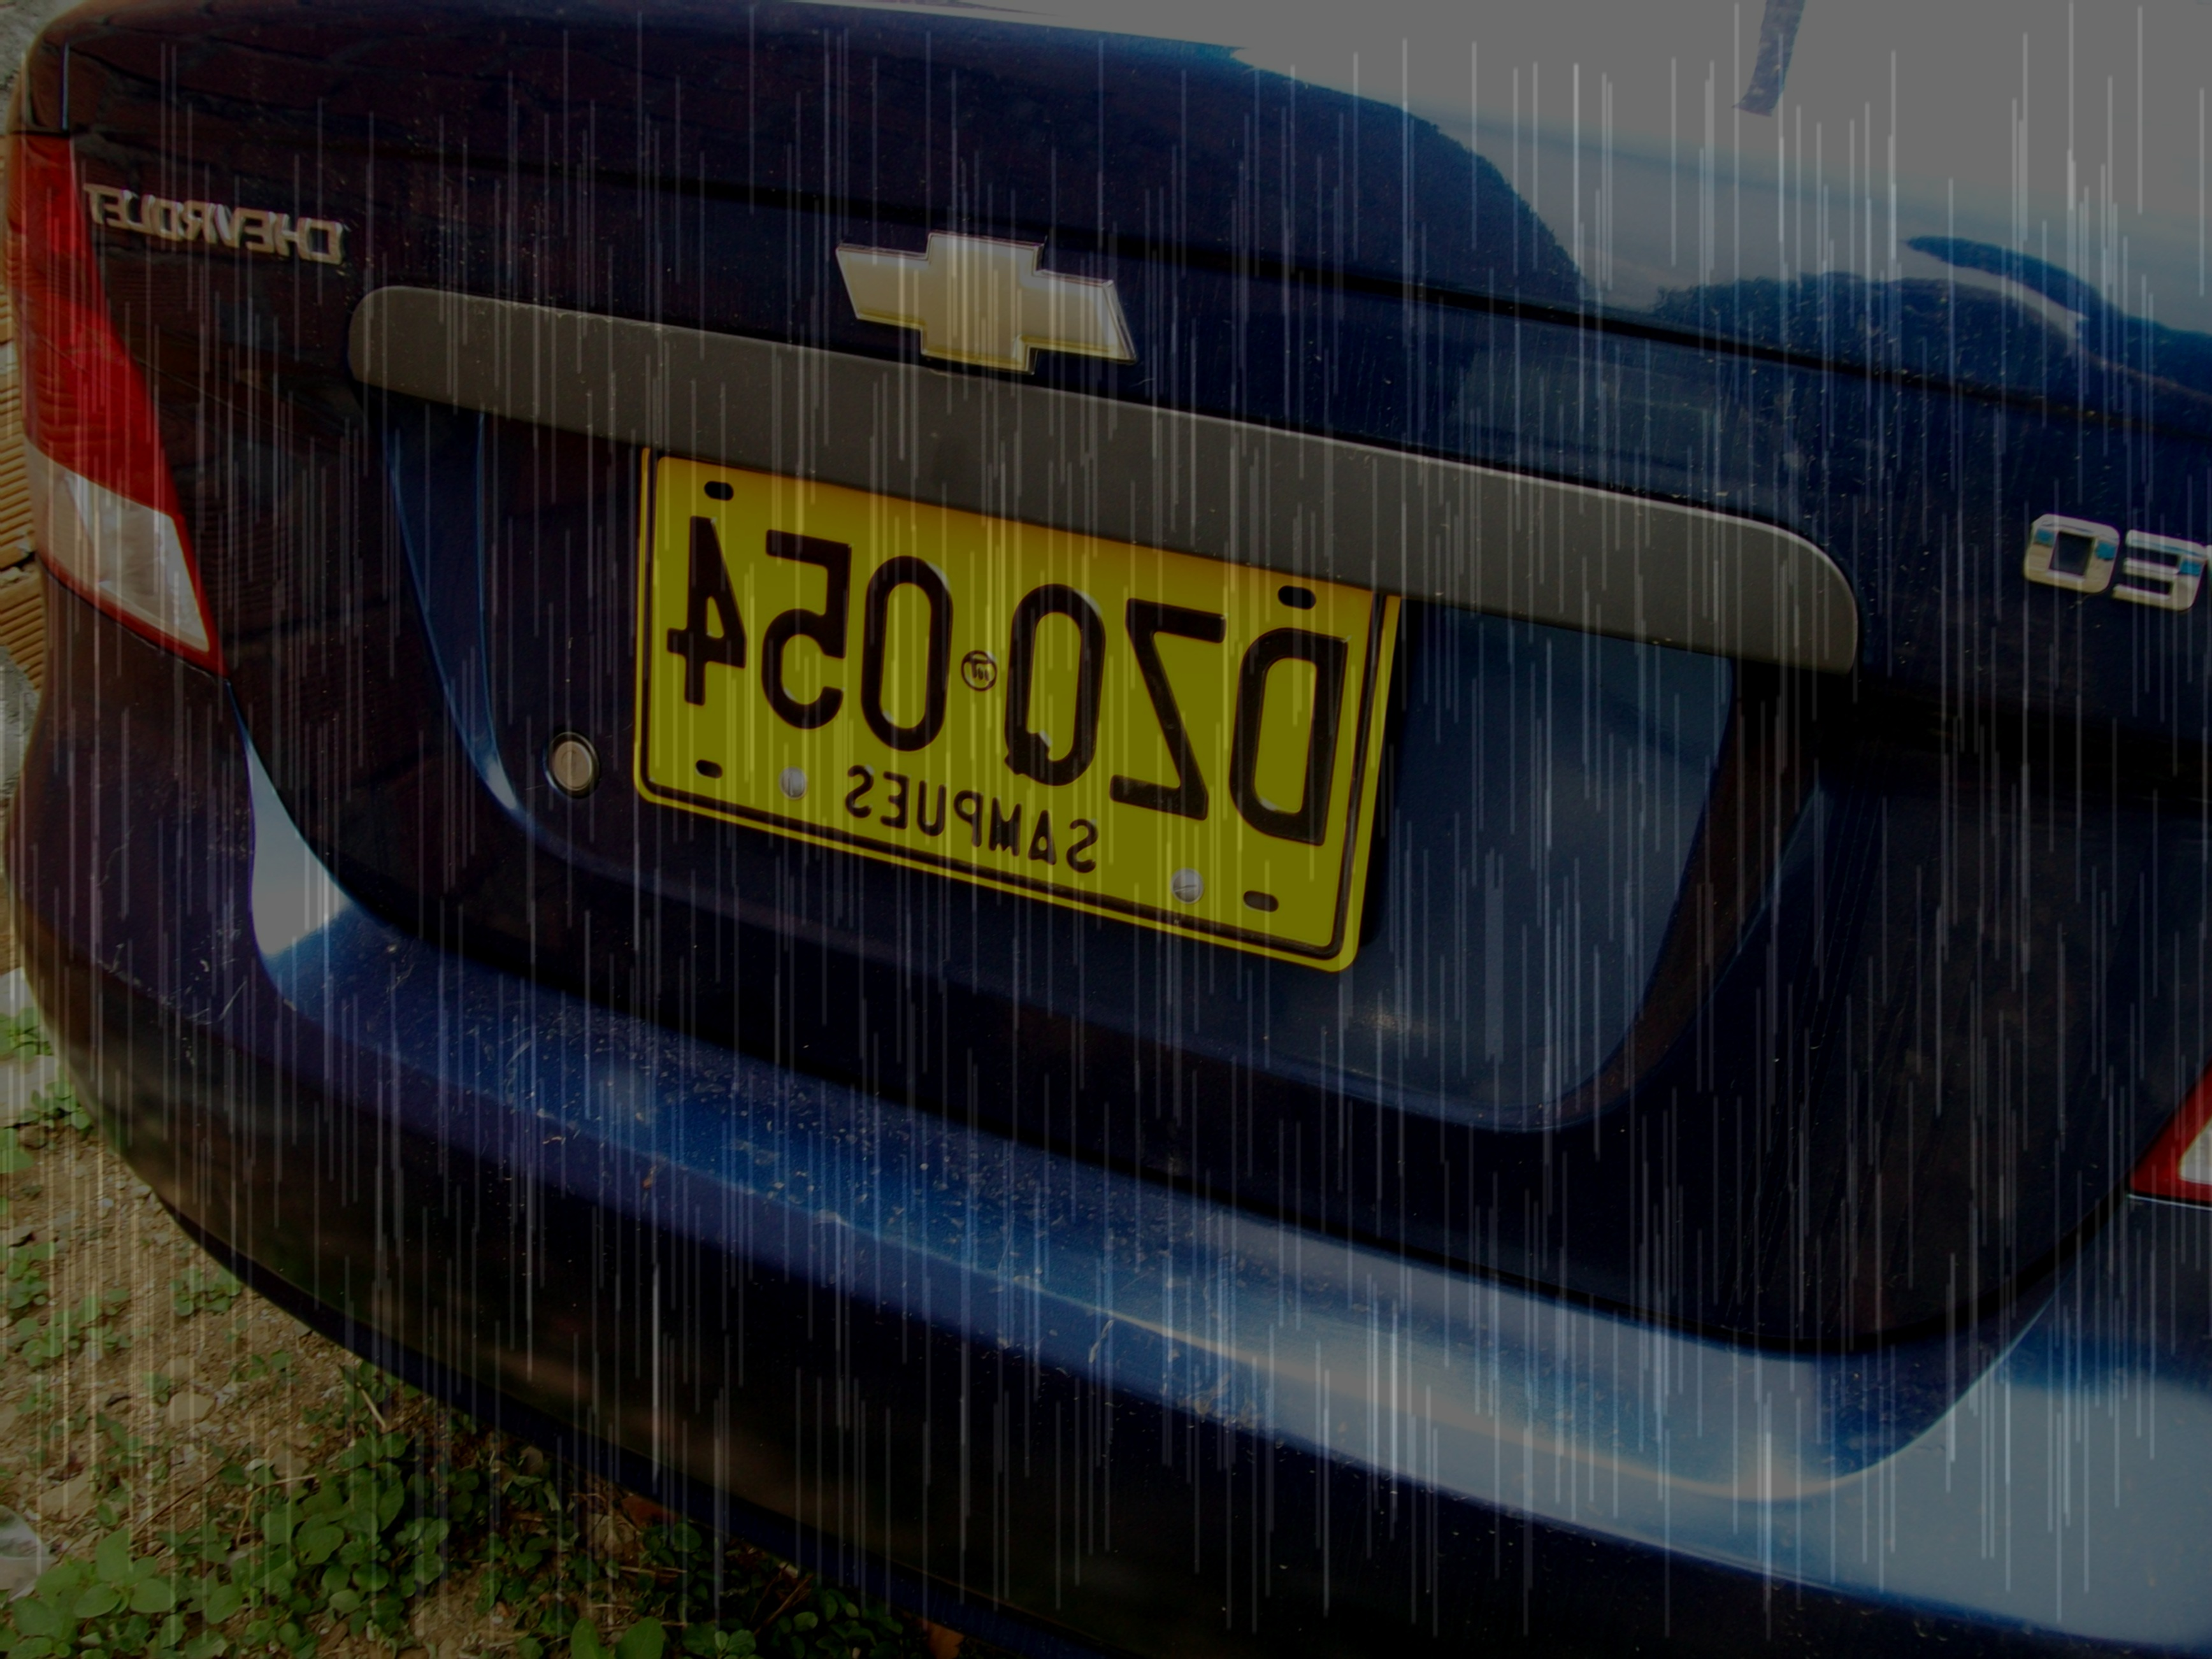placas: (622, 443, 1409, 977)
